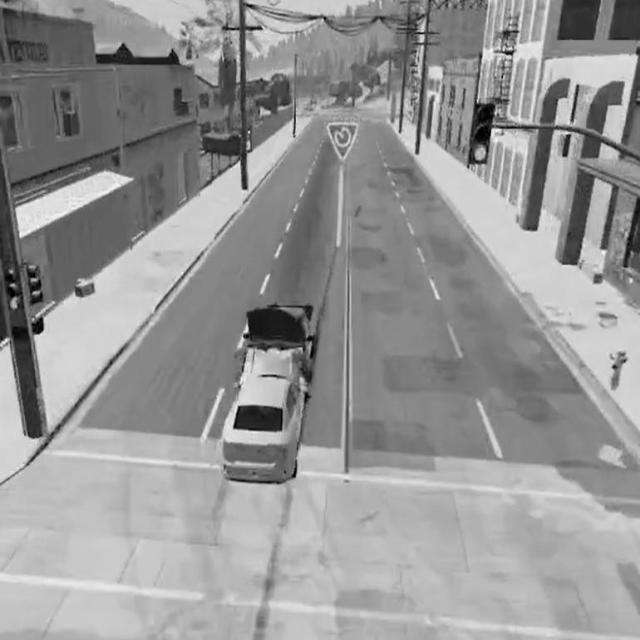accident: (218, 296, 322, 488)
